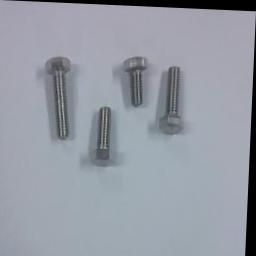Non-corroded-Bolts: (46, 56, 72, 140), (160, 64, 185, 134), (91, 105, 118, 166), (124, 55, 149, 106)
